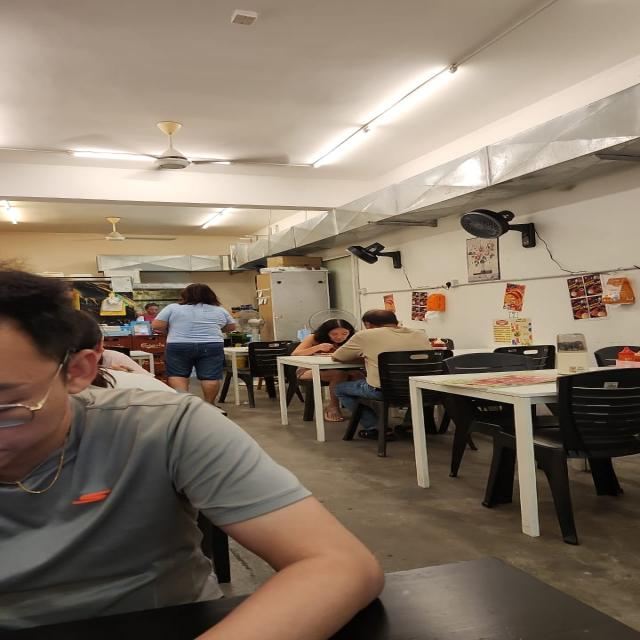Person: (147, 279, 241, 422)
